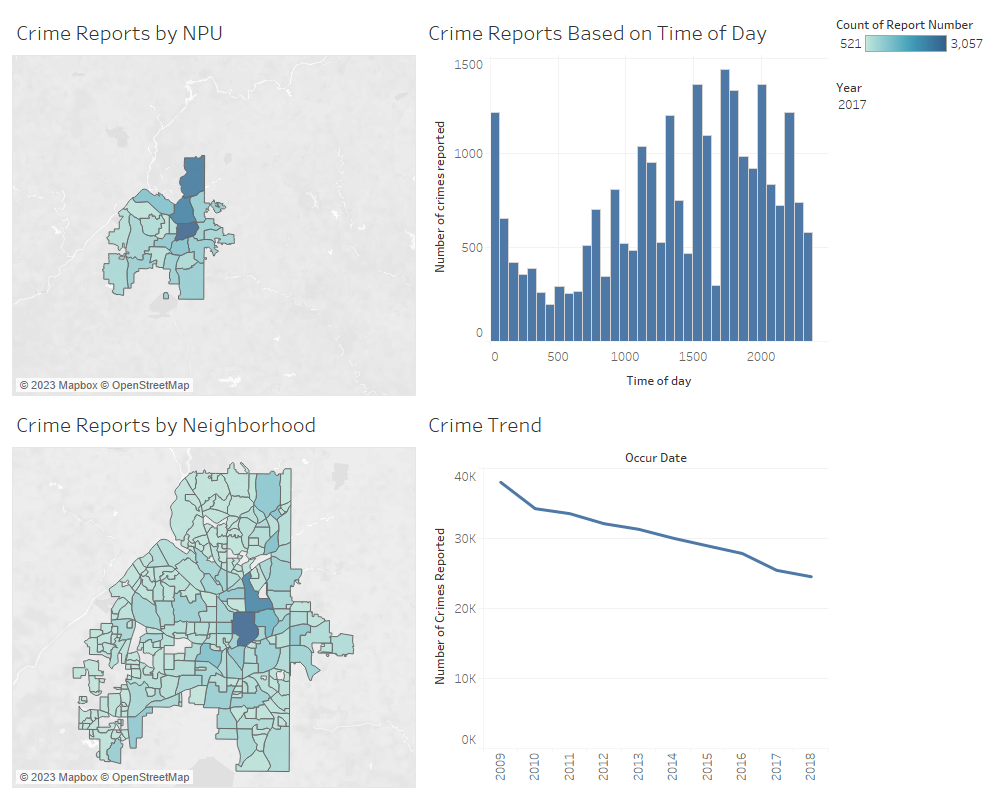

Layout of this report page (visuals, bound fields, positions):
{"tool":"tableau","page":{"name":"Dashboard 1","canvas":[1000,800],"ordinal":0},"visuals":[{"type":"worksheet","title":"Crime Reports by NPU","mark":"Automatic","box":[8,8,412,392]},{"type":"worksheet","title":"Crime Reports Based on Time of Day","mark":"Automatic","rows":["Occur Time"],"cols":["Occur Time (bin)"],"box":[420,8,412,392]},{"type":"legend","title":"Crime Reports by NPU","param":"[federated.0hp6jeo1658rzw118nyuk0pgq6uf].[cnt:Report Number:qk]","box":[832,8,160,65]},{"type":"filter","title":"Crime Reports by NPU","param":"[federated.0hp6jeo1658rzw118nyuk0pgq6uf].[yr:Occur Date:ok]","box":[832,73,160,75]},{"type":"worksheet","title":"Crime Reports by Neighborhood","mark":"Automatic","box":[8,400,412,392]},{"type":"worksheet","title":"Crime Trend","mark":"Automatic","rows":["Report Number"],"cols":["Occur Date"],"box":[420,400,412,392]}]}

Visuals, with their boxes in screenshot pixels (x1, y1, x2, y2), scaled from the page's 1000x800 canvas onto the 1000x800 screenshot:
"Crime Reports by NPU" worksheet: <region>8, 8, 420, 400</region>
"Crime Reports Based on Time of Day" worksheet: <region>420, 8, 832, 400</region>
"Crime Reports by NPU" legend: <region>832, 8, 992, 73</region>
"Crime Reports by NPU" filter: <region>832, 73, 992, 148</region>
"Crime Reports by Neighborhood" worksheet: <region>8, 400, 420, 792</region>
"Crime Trend" worksheet: <region>420, 400, 832, 792</region>
